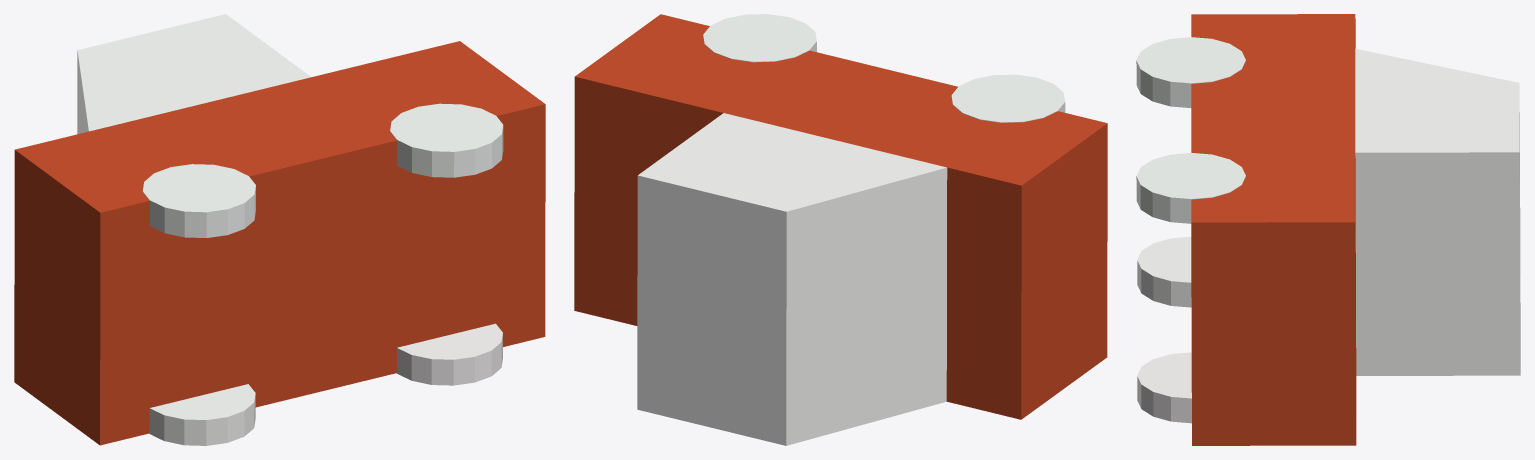
The model's file is vel1.fbx.
3 renders of one model, left to right at view 1: azimuth 30°, elevation 25°; view 2: azimuth 150°, elevation 25°; view 3: azimuth 270°, elevation 25°, orthographic. The views are drawn at different scales.
Visible parts, largest first — view 1: Vehicle, Roof, WheelFrontRight, WheelRearRight, WheelRearLeft, WheelFrontLeft; view 2: Vehicle, Roof, WheelRearRight, WheelFrontRight; view 3: Vehicle, Roof, WheelRearRight, WheelFrontRight, WheelFrontLeft, WheelRearLeft.
Part boxes in pixels (x1,y1,x2,y2): Vehicle: [14, 41, 545, 445]; Roof: [77, 14, 311, 134]; WheelFrontRight: [390, 103, 503, 177]; WheelRearRight: [142, 164, 255, 237]; WheelRearLeft: [149, 384, 255, 445]; WheelFrontLeft: [396, 323, 502, 385]; Vehicle: [574, 14, 1107, 419]; Roof: [637, 113, 947, 445]; WheelRearRight: [951, 74, 1065, 122]; WheelFrontRight: [703, 14, 816, 62]; Vehicle: [1191, 14, 1356, 445]; Roof: [1355, 48, 1520, 375]; WheelRearRight: [1136, 37, 1245, 107]; WheelFrontRight: [1136, 152, 1245, 223]; WheelFrontLeft: [1137, 352, 1191, 423]; WheelRearLeft: [1137, 236, 1191, 307].
Bounding box in the file's own units: 254 × 128 × 198.
